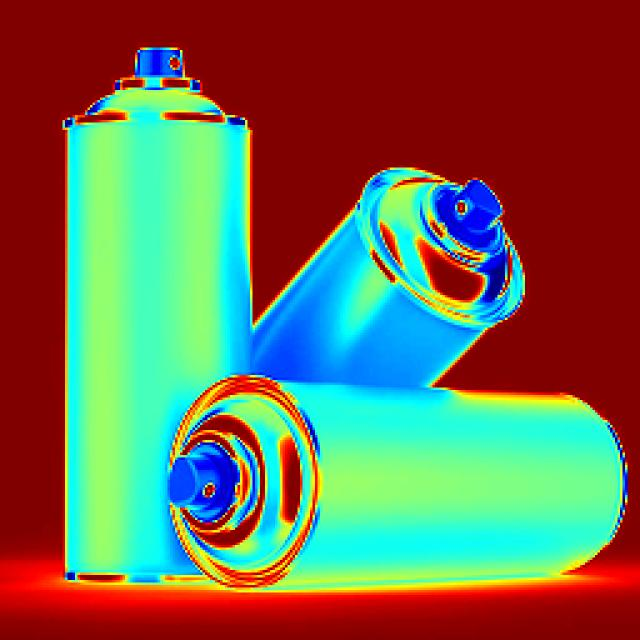Aerosol Cans: (64, 44, 331, 576)
